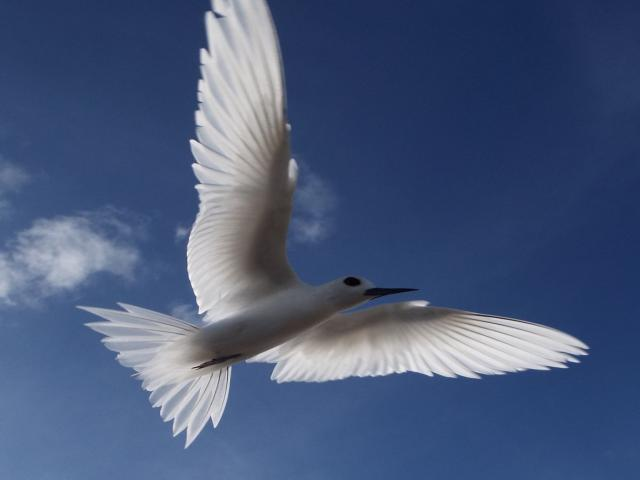Bird: (76, 0, 592, 450)
